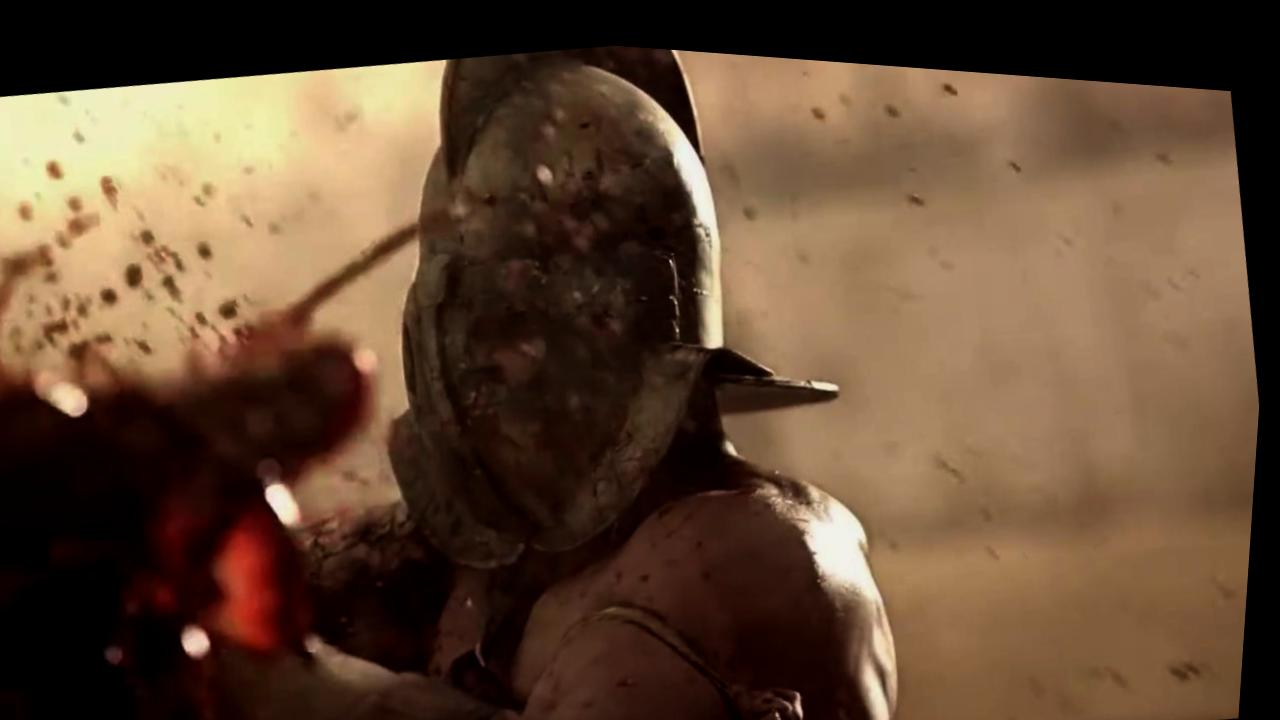Fire: (0, 59, 437, 646)
